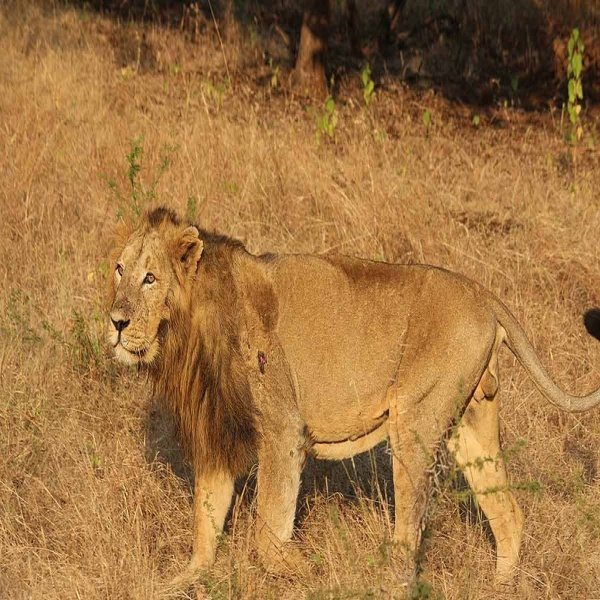Lion: (103, 205, 598, 595)
